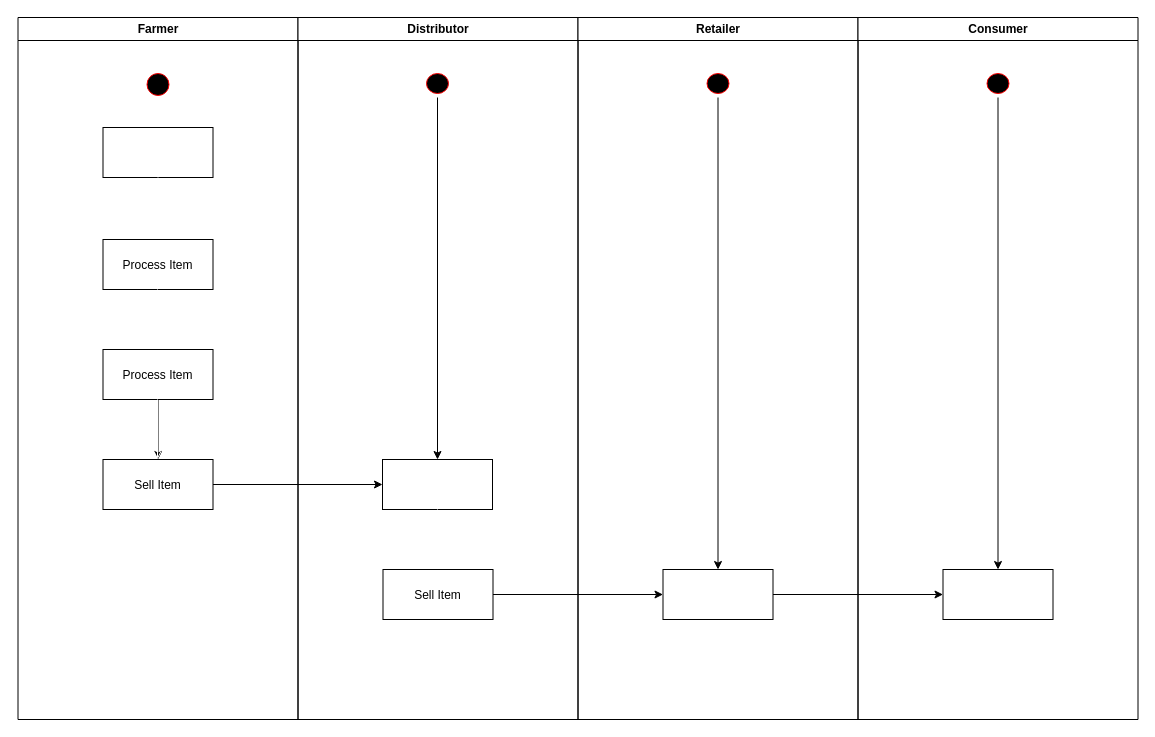
This 1155x737 diagram has some shape labels left out. Here are the shapes that lost their labels. From the top down, the centre of each, then its label:
At point 157,152: "Harvest Item".
At point 437,484: "Buy Item".
At point 717,594: "Receiver Item".
At point 997,594: "Purchase Item".
